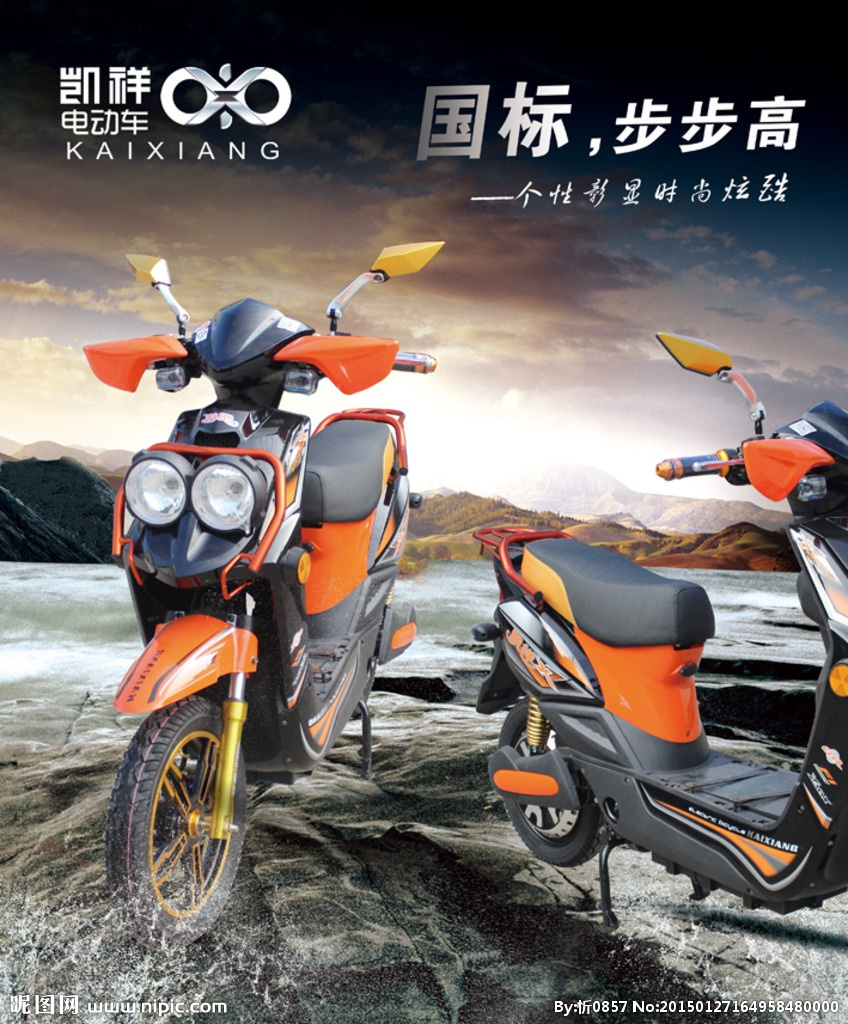non-vehicle: (97, 250, 419, 951), (473, 398, 848, 917)
